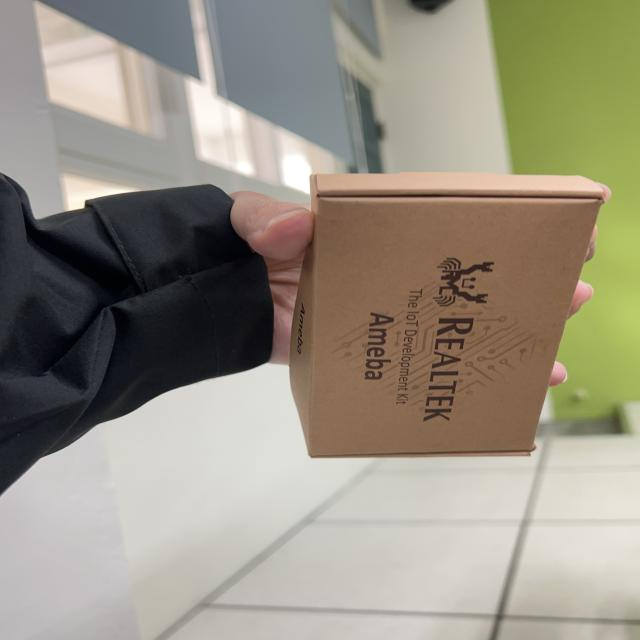box: (268, 164, 602, 485)
